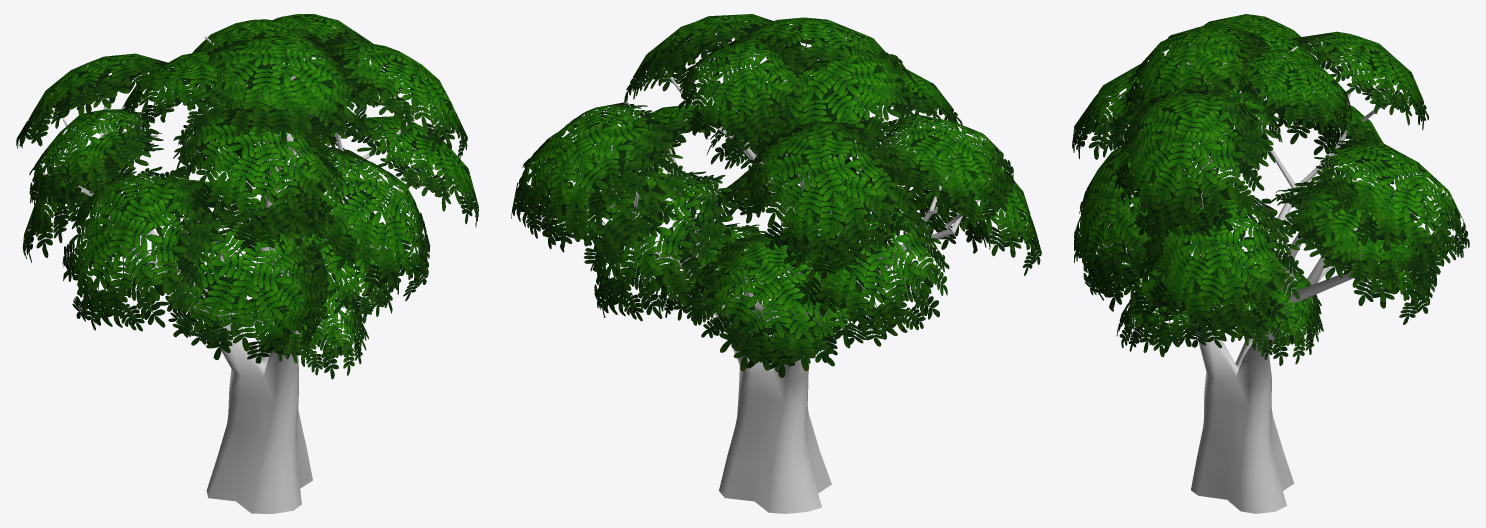
Rendered from street_vegetation_park_tree_chinara.FBX.
3 views of the same model, side by side, from view 1: azimuth 30°, elevation 25°; view 2: azimuth 150°, elevation 25°; view 3: azimuth 270°, elevation 25° (orthographic). The views are drawn at different scales.
Parts seen in each view (by area): view 1: street_vegetation_park_tree_chinara_leaf, street_vegetation_park_tree_chinara_bark; view 2: street_vegetation_park_tree_chinara_leaf, street_vegetation_park_tree_chinara_bark; view 3: street_vegetation_park_tree_chinara_leaf, street_vegetation_park_tree_chinara_bark.
Part boxes in pixels (x1=…): street_vegetation_park_tree_chinara_leaf: x1=16, y1=14, x2=478, y2=379; street_vegetation_park_tree_chinara_bark: x1=50, y1=36, x2=430, y2=513; street_vegetation_park_tree_chinara_leaf: x1=511, y1=14, x2=1041, y2=377; street_vegetation_park_tree_chinara_bark: x1=582, y1=26, x2=990, y2=513; street_vegetation_park_tree_chinara_leaf: x1=1072, y1=14, x2=1469, y2=365; street_vegetation_park_tree_chinara_bark: x1=1102, y1=46, x2=1412, y2=513.
Bounding box in the file's own units: 680 × 563 × 691.
